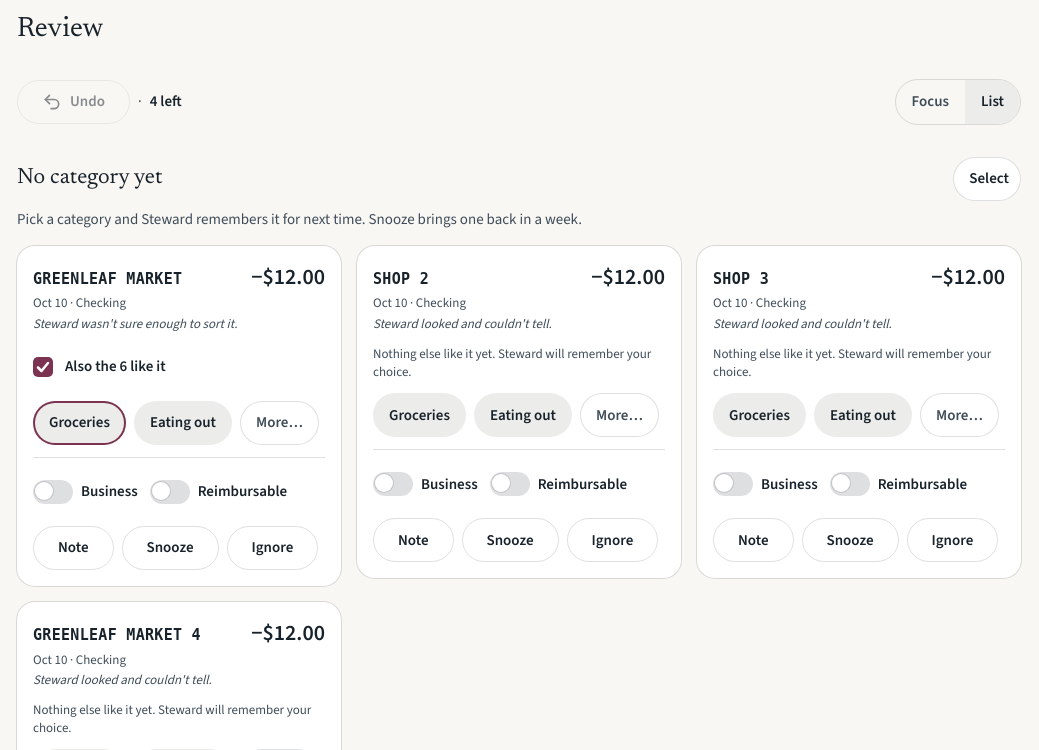
Test: the list (review focus P20, P21): a card acted on becomes a slim row in its place › the page scrolls by the height the card lost, so the rows below stay where they were on screen
The image size is (1039, 750).
What coordinates should you click on to do the following:
click the button "Groceries" below "SHOP 2"
I would click on:
 (419, 415)
Its box is [373,393,466,437].
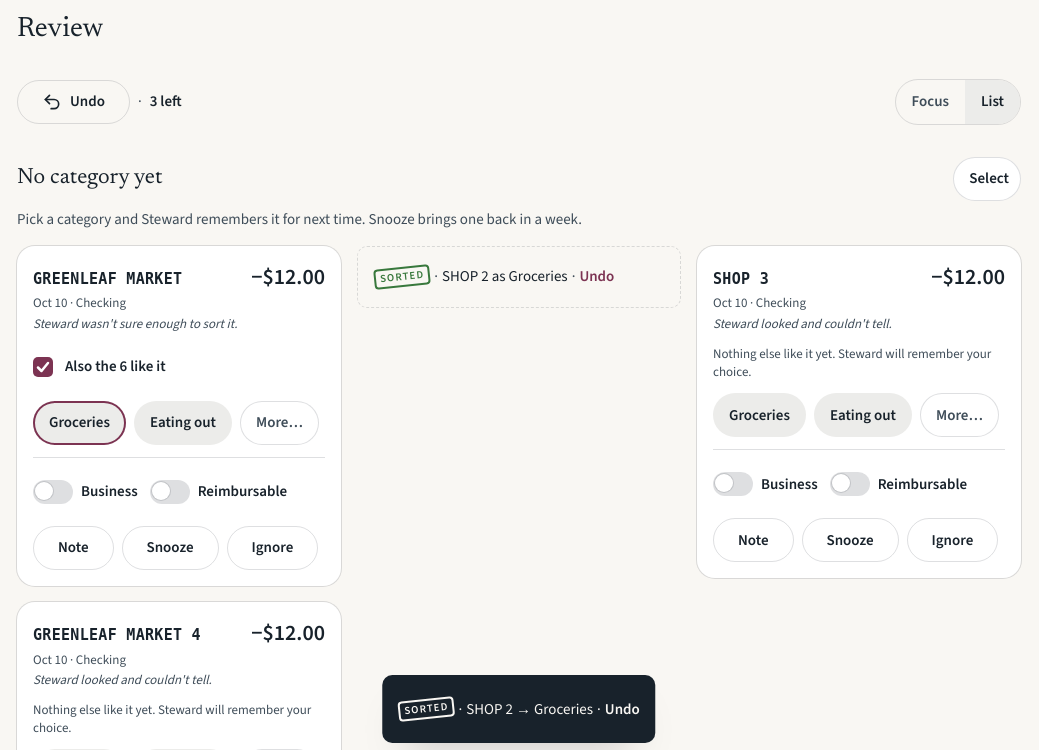
Result: the element with test id "slim-row" is shown at [357,246,681,308]
